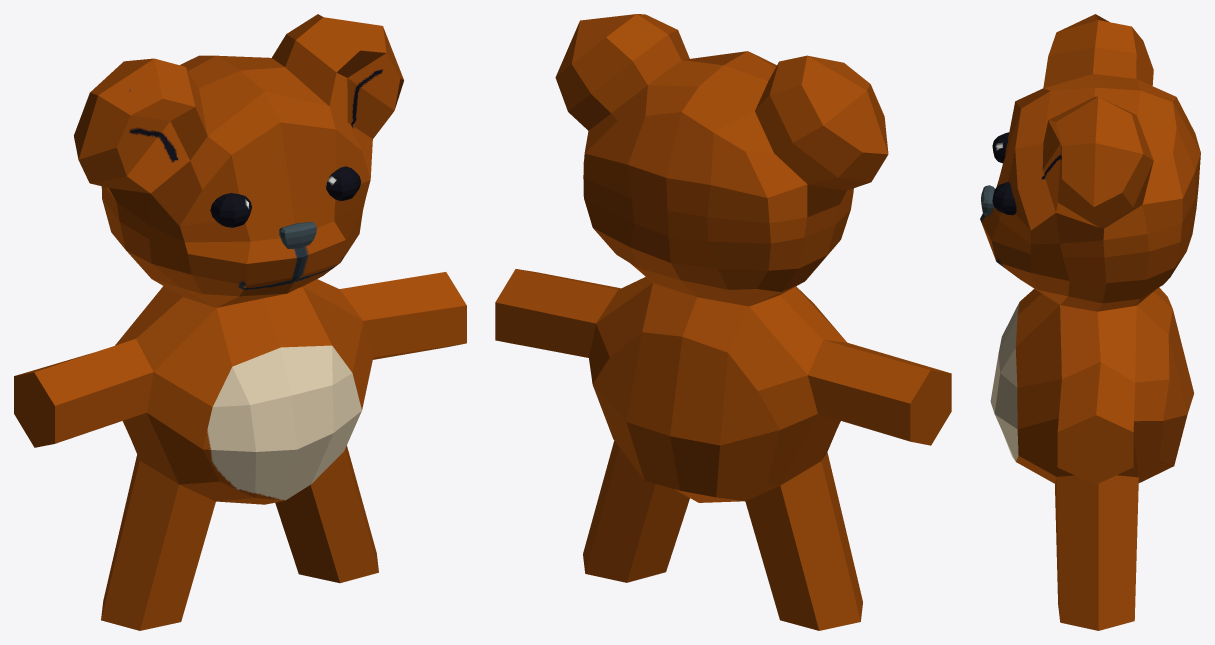
Rendered from Bobo.obj.
3 views of the same model, side by side, from view 1: azimuth 30°, elevation 25°; view 2: azimuth 150°, elevation 25°; view 3: azimuth 270°, elevation 25° (orthographic). The views are drawn at different scales.
Visible parts, largest first — view 1: Teddy_Bear.001_Cube.004; view 2: Teddy_Bear.001_Cube.004; view 3: Teddy_Bear.001_Cube.004.
Boxes of the visible parts, x1=… form: Teddy_Bear.001_Cube.004: x1=14, y1=14, x2=466, y2=630; Teddy_Bear.001_Cube.004: x1=495, y1=14, x2=951, y2=630; Teddy_Bear.001_Cube.004: x1=980, y1=14, x2=1200, y2=630.
Size of the model in its own units: 0.2749 by 0.35 by 0.1374.
